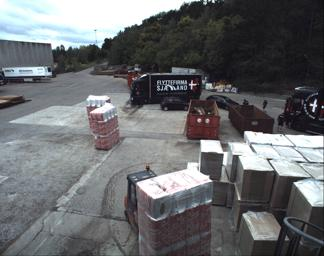rockwool_batts: (138, 162, 211, 255), (90, 103, 119, 147), (86, 93, 111, 116)
